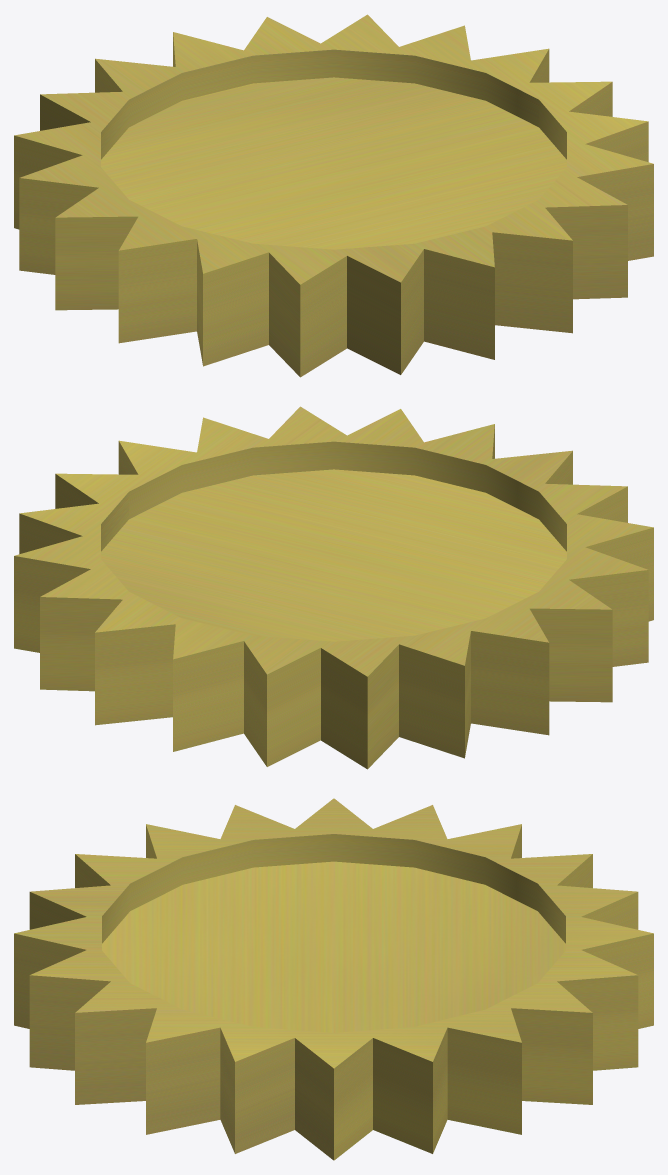
File: ClockStraightFacet5Spoke020.fbx
3 views of the same model, one above another, from view 1: azimuth 30°, elevation 25°; view 2: azimuth 150°, elevation 25°; view 3: azimuth 270°, elevation 25° (orthographic).
Visible parts, largest first — view 1: ClockStraightFacet5Spoke020; view 2: ClockStraightFacet5Spoke020; view 3: ClockStraightFacet5Spoke020.
Part boxes in pixels (<box>): ClockStraightFacet5Spoke020: <box>14,14,653,377</box>; ClockStraightFacet5Spoke020: <box>14,406,653,769</box>; ClockStraightFacet5Spoke020: <box>14,798,653,1160</box>.
Size of the model in its own units: 124 by 19.69 by 124.
